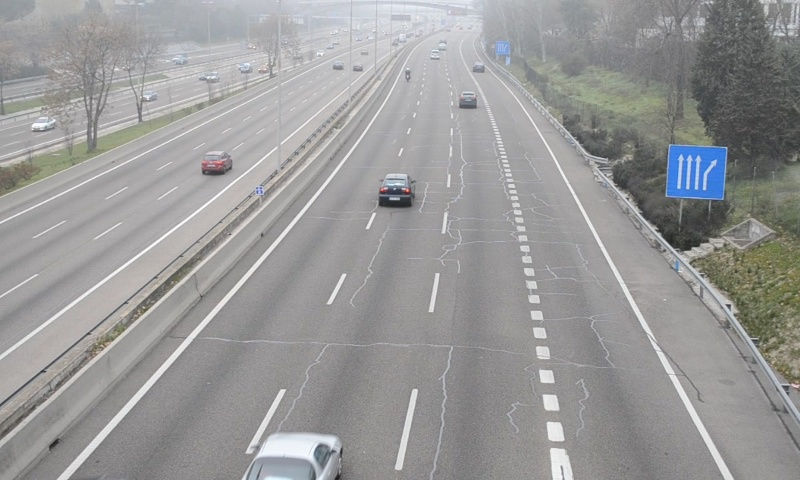car: (378, 174, 416, 207), (459, 90, 478, 109)
motorcycle: (404, 67, 411, 82)
